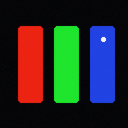0 point: (101, 37, 105, 41)
